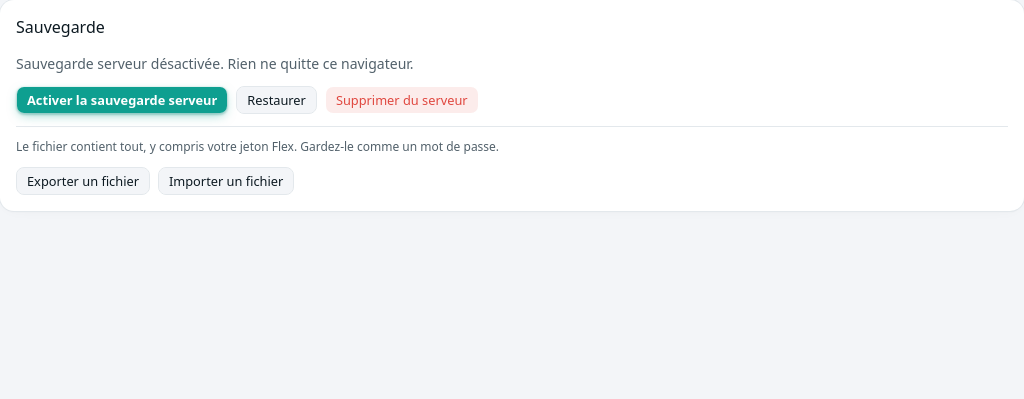
Scenario: BackupCard › demande la phrase pour restaurer sur un navigateur qui n'a pas la clé
Click the button "Restaurer" at (277, 100), box [236, 86, 317, 114]
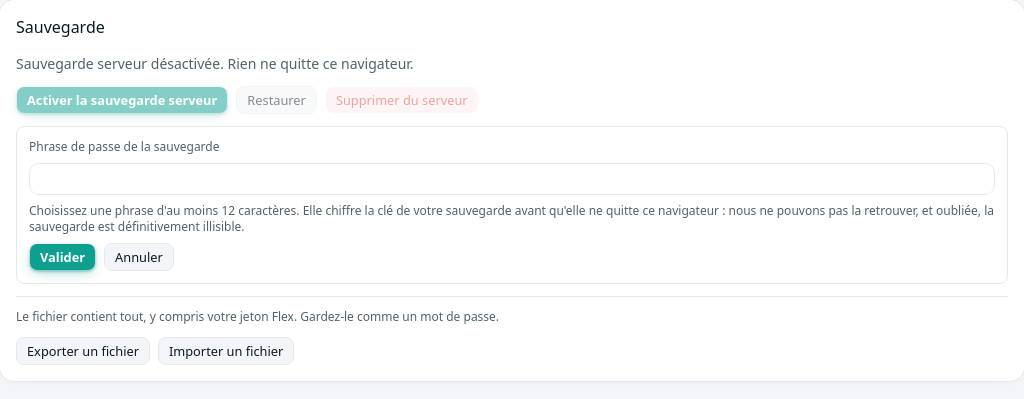
Expected: the password field labelled "Phrase de passe de la sauvegarde" is shown, [29, 163, 995, 195]
